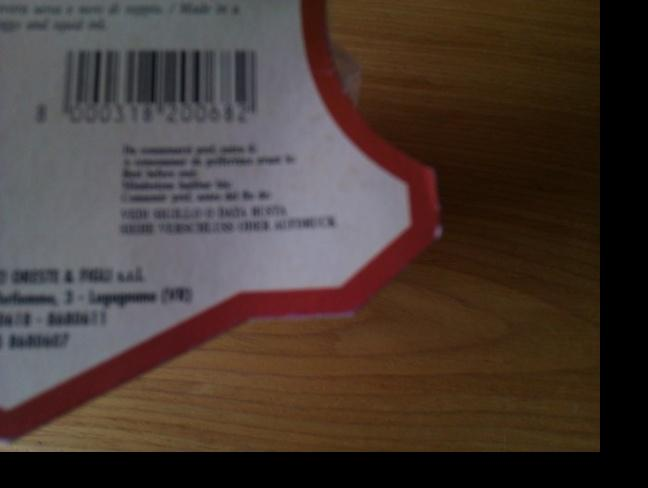Barcode: (26, 38, 273, 135)
